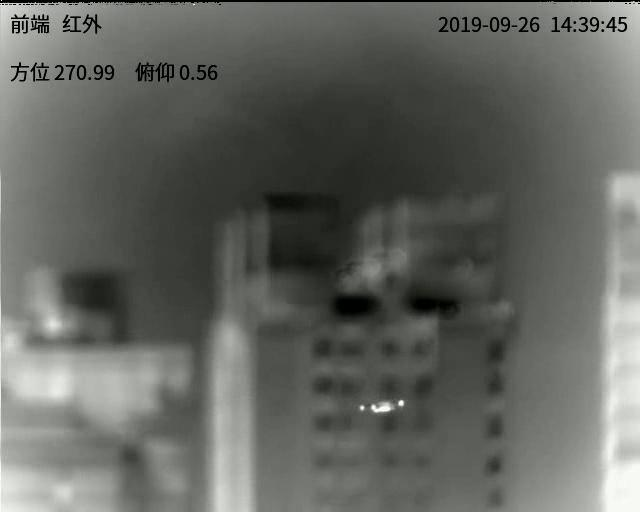DRONE: (359, 398, 407, 414)
